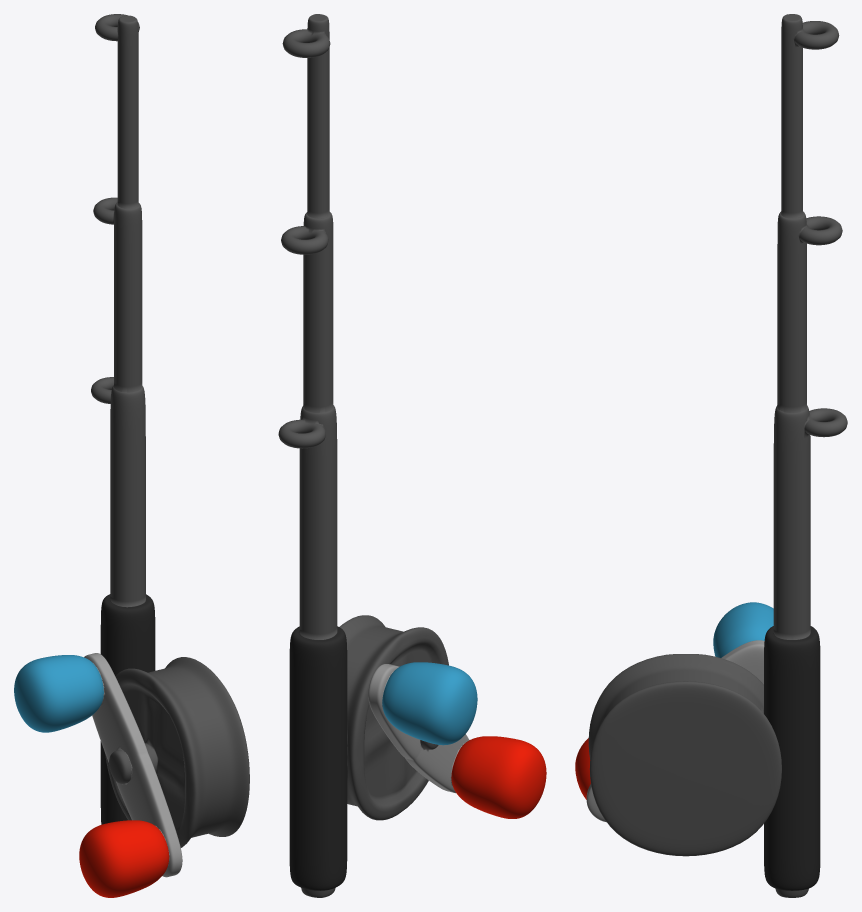
The model's file is reelrod.glb.
The picture shows the model from 3 angles, left to right: view 1: azimuth 30°, elevation 25°; view 2: azimuth 150°, elevation 25°; view 3: azimuth 270°, elevation 25°; orthographic projection. The views are drawn at different scales.
Parts seen in each view (by area): view 1: fishingrod; view 2: fishingrod; view 3: fishingrod.
Part boxes in pixels (<box>): fishingrod: <box>14,14,249,897</box>; fishingrod: <box>278,14,546,897</box>; fishingrod: <box>575,14,847,897</box>.
Bounding box in the file's own units: 0.7188 × 3.72 × 1.05.
